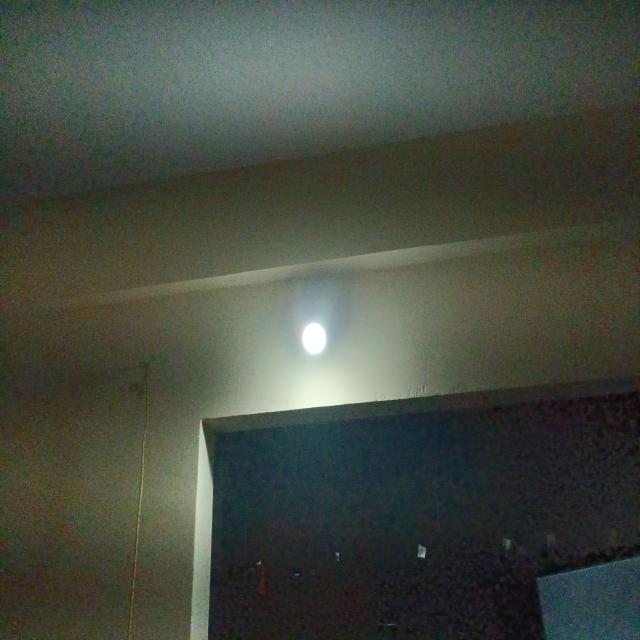bulb_on: (300, 319, 328, 356)
